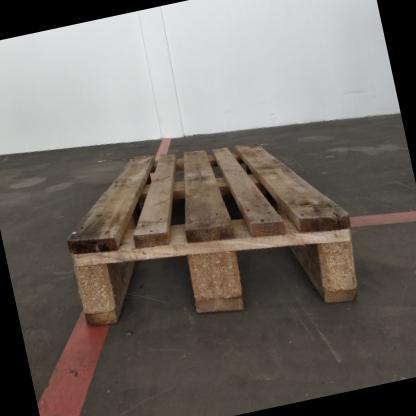BoxFace: (64, 135, 363, 330)
